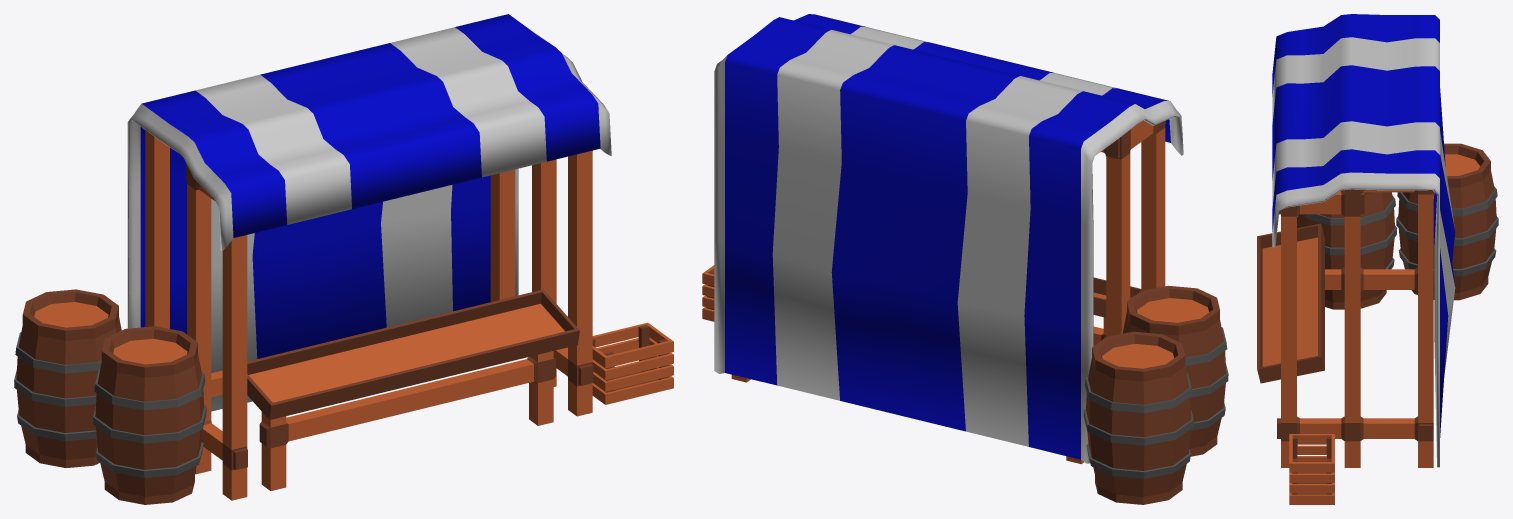
File: MarketStallBL.fbx
3 renders of one model, left to right at view 1: azimuth 30°, elevation 25°; view 2: azimuth 150°, elevation 25°; view 3: azimuth 270°, elevation 25°, orthographic. The views are drawn at different scales.
Parts seen in each view (by area): view 1: MarketStall.002; view 2: MarketStall.002; view 3: MarketStall.002.
Part boxes in pixels (<box>): MarketStall.002: <box>14,14,673,504</box>; MarketStall.002: <box>702,14,1228,504</box>; MarketStall.002: <box>1257,14,1498,504</box>.
Bounding box in the file's own units: 3.6 × 2.06 × 1.52.
